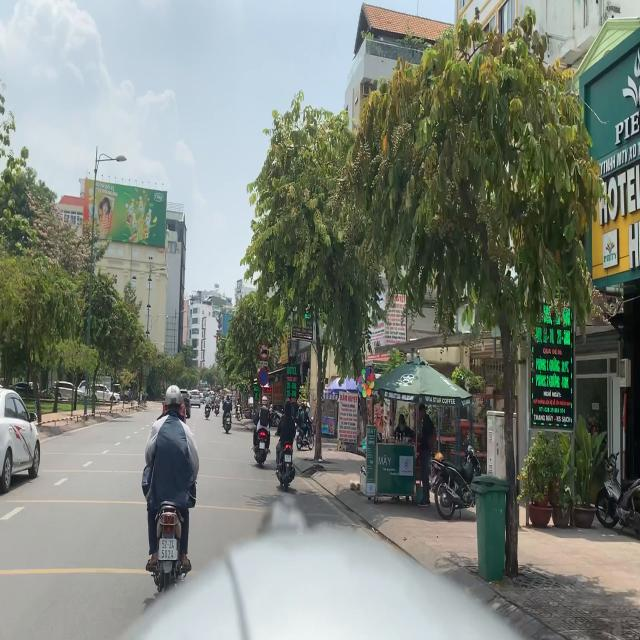Cam do: (259, 368, 269, 387)
